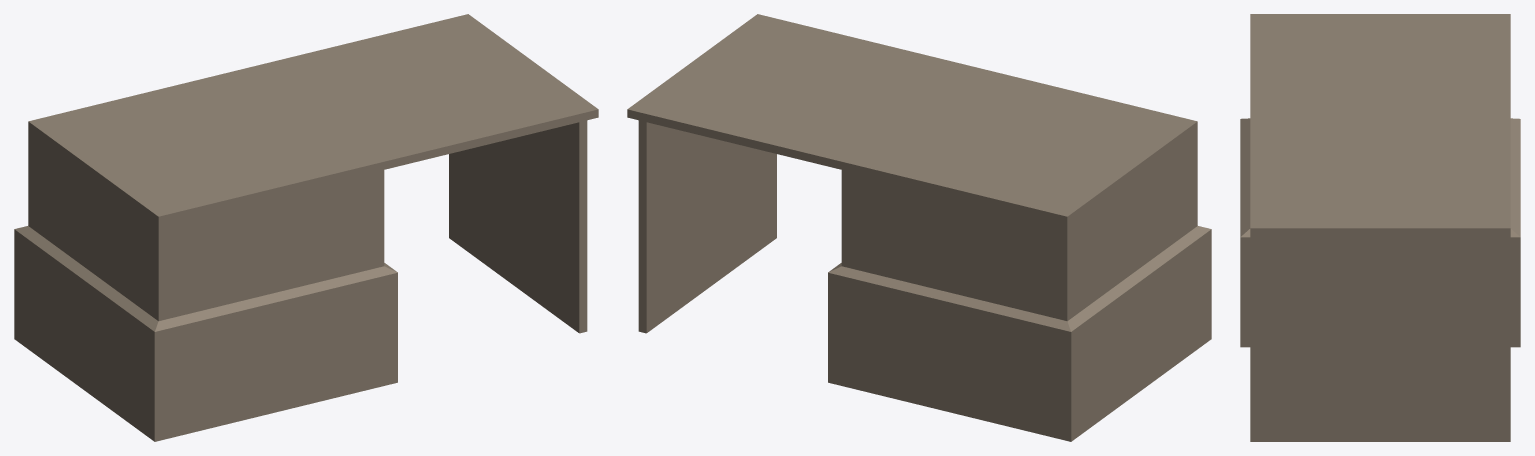
File: LightTable1.fbx
3 renders of one model, left to right at view 1: azimuth 30°, elevation 25°; view 2: azimuth 150°, elevation 25°; view 3: azimuth 270°, elevation 25°, orthographic.
Parts seen in each view (by area): view 1: Cube.067; view 2: Cube.067; view 3: Cube.067.
Boxes of the visible parts, x1,y1,x2,y2 form: Cube.067: (14, 14, 598, 441); Cube.067: (627, 14, 1211, 441); Cube.067: (1240, 14, 1520, 441).
Size of the model in its own units: 398 by 186 by 216.
